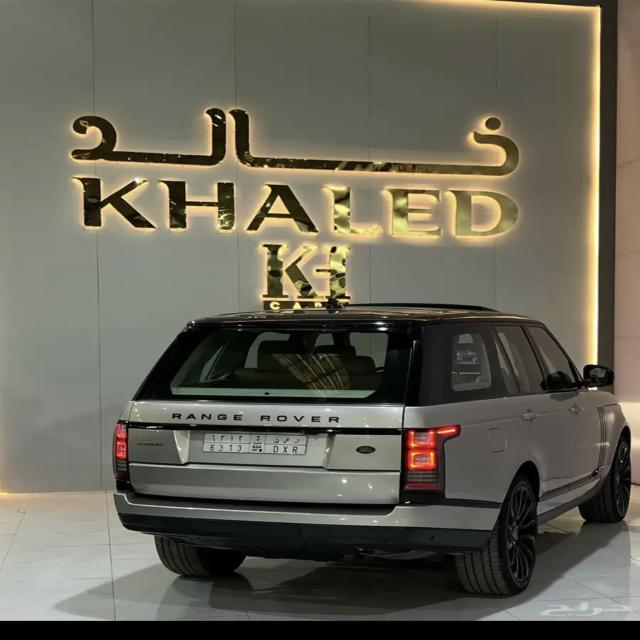license_plate: (202, 434, 308, 456)
